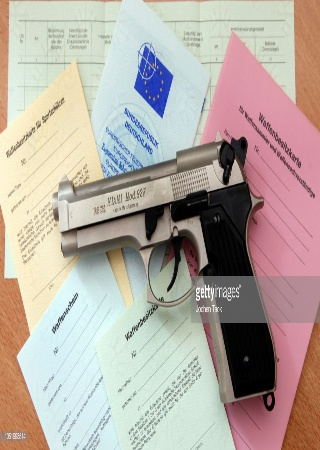handgun: (51, 140, 275, 414)
